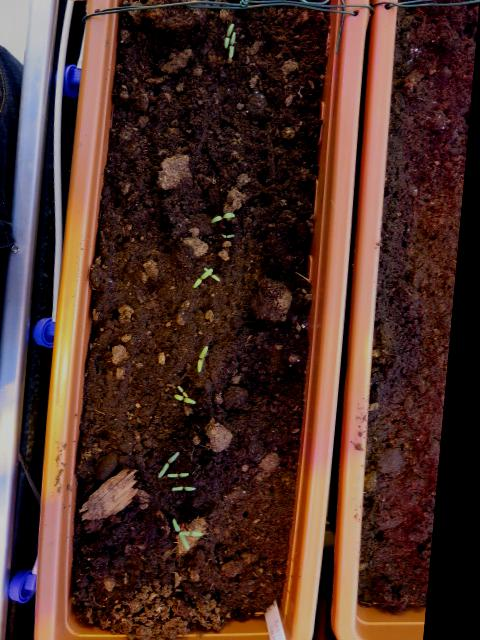crop: (198, 337, 216, 380)
